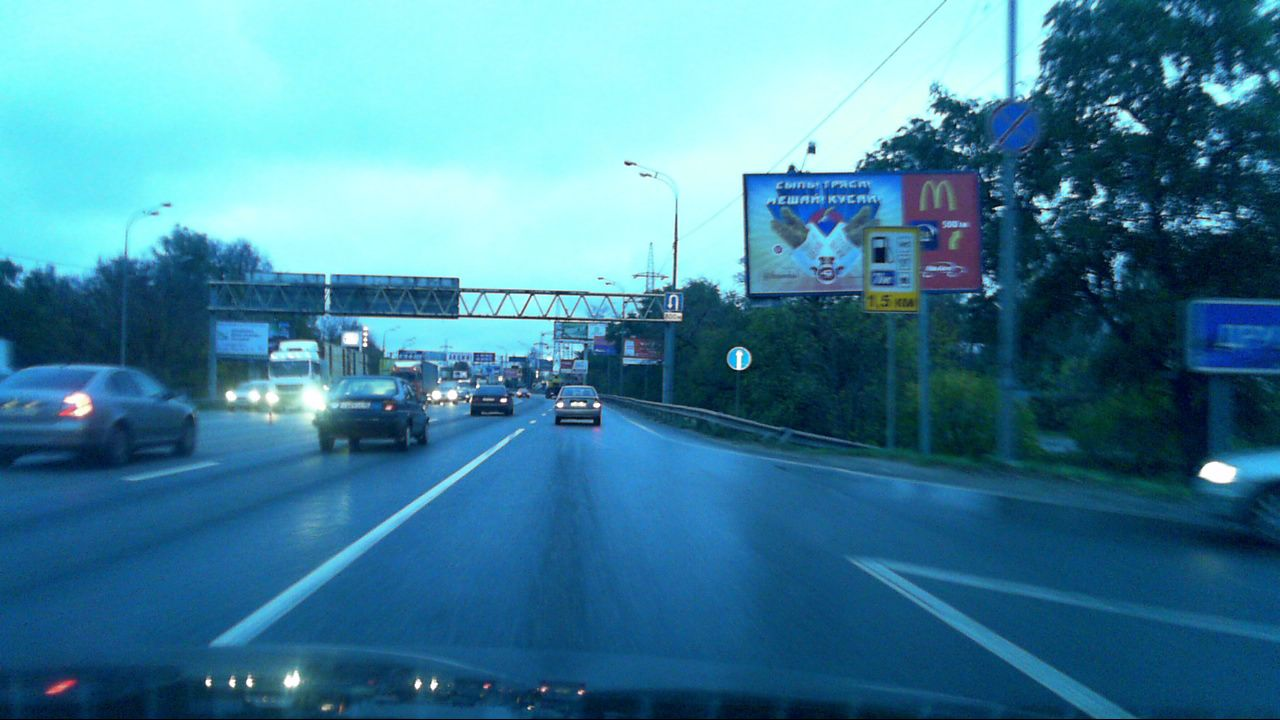No Parking: (989, 101, 1039, 152)
U-turn: (665, 292, 683, 312)
